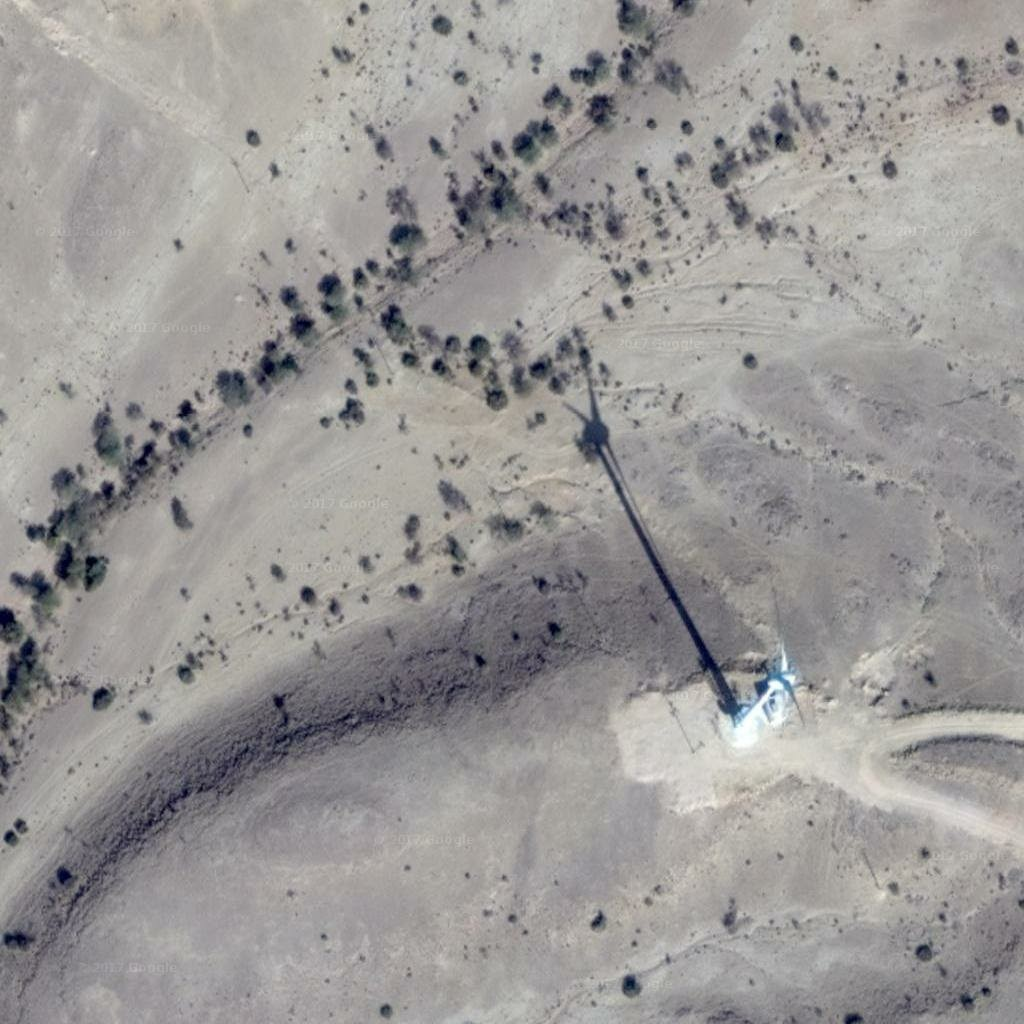Windmill: (554, 386, 748, 709)
